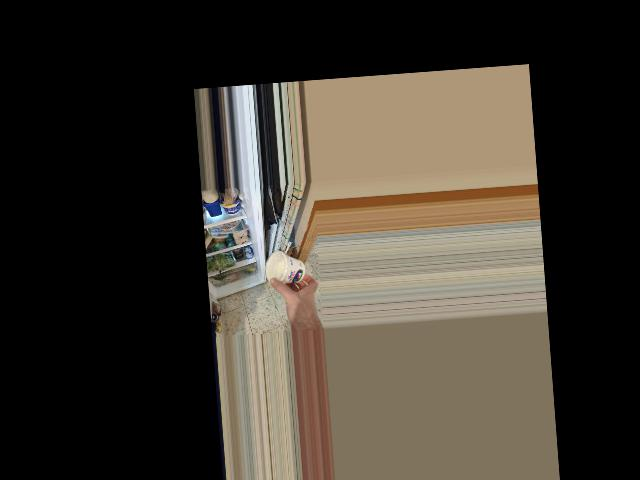cotage: (269, 246, 302, 285)
